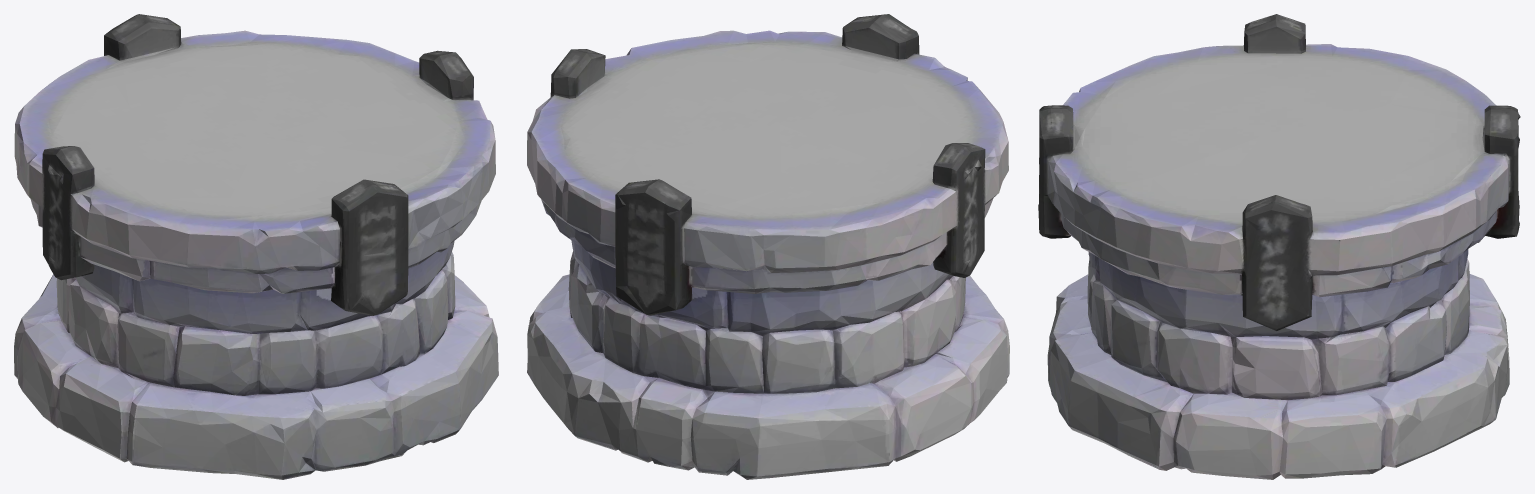
The model's file is stone_gate.glb.
3 views of the same model, side by side, from view 1: azimuth 30°, elevation 25°; view 2: azimuth 150°, elevation 25°; view 3: azimuth 270°, elevation 25° (orthographic).
Size of the model in its own units: 1.91 by 1.25 by 1.97.
Materials: 1 (1 with a texture image).
